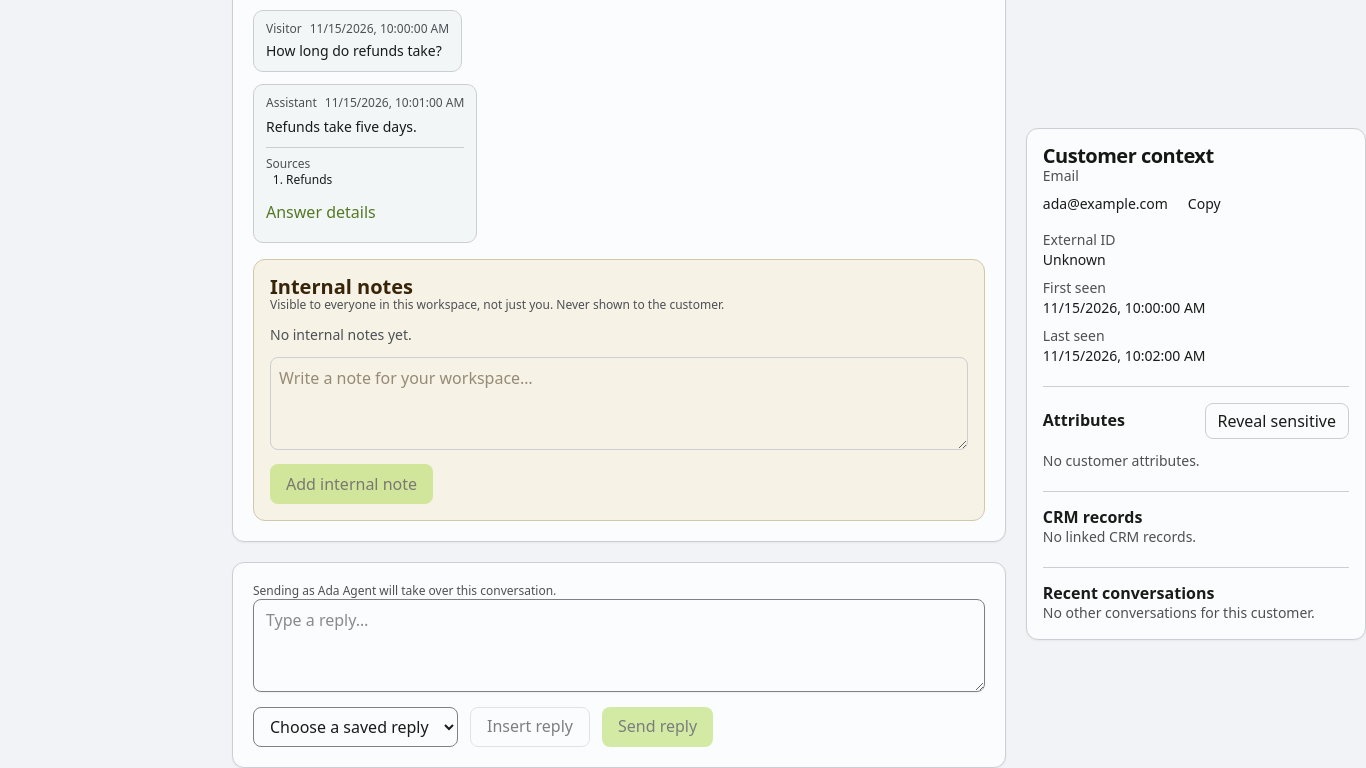
ConversationDetail › sends a reply and clears the composer
The width and height of the screenshot is (1366, 768).
(page scrolled)
Type "Hello!" into the text box named "Reply to the visitor" at (619, 646), box [253,600,985,692]
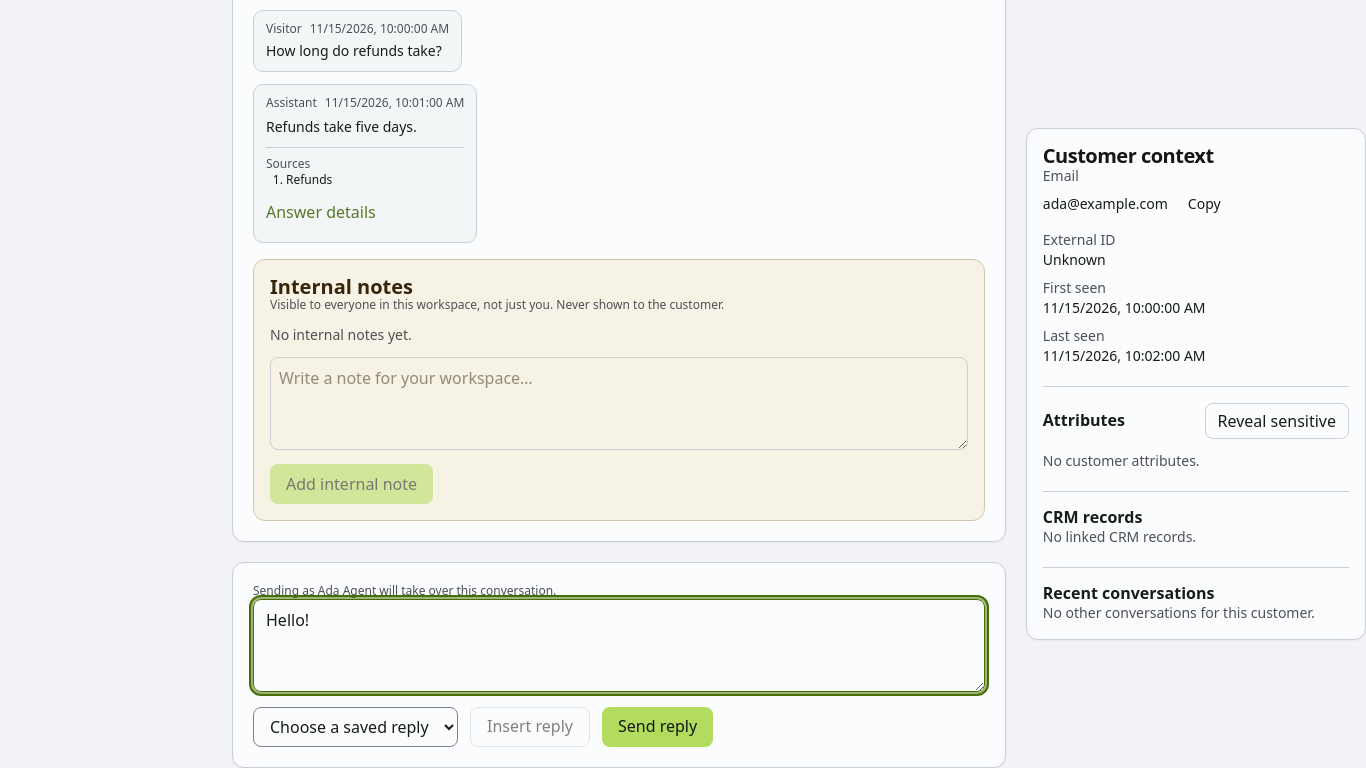
Click the button "Send reply" at (658, 727), box [602,707,713,747]
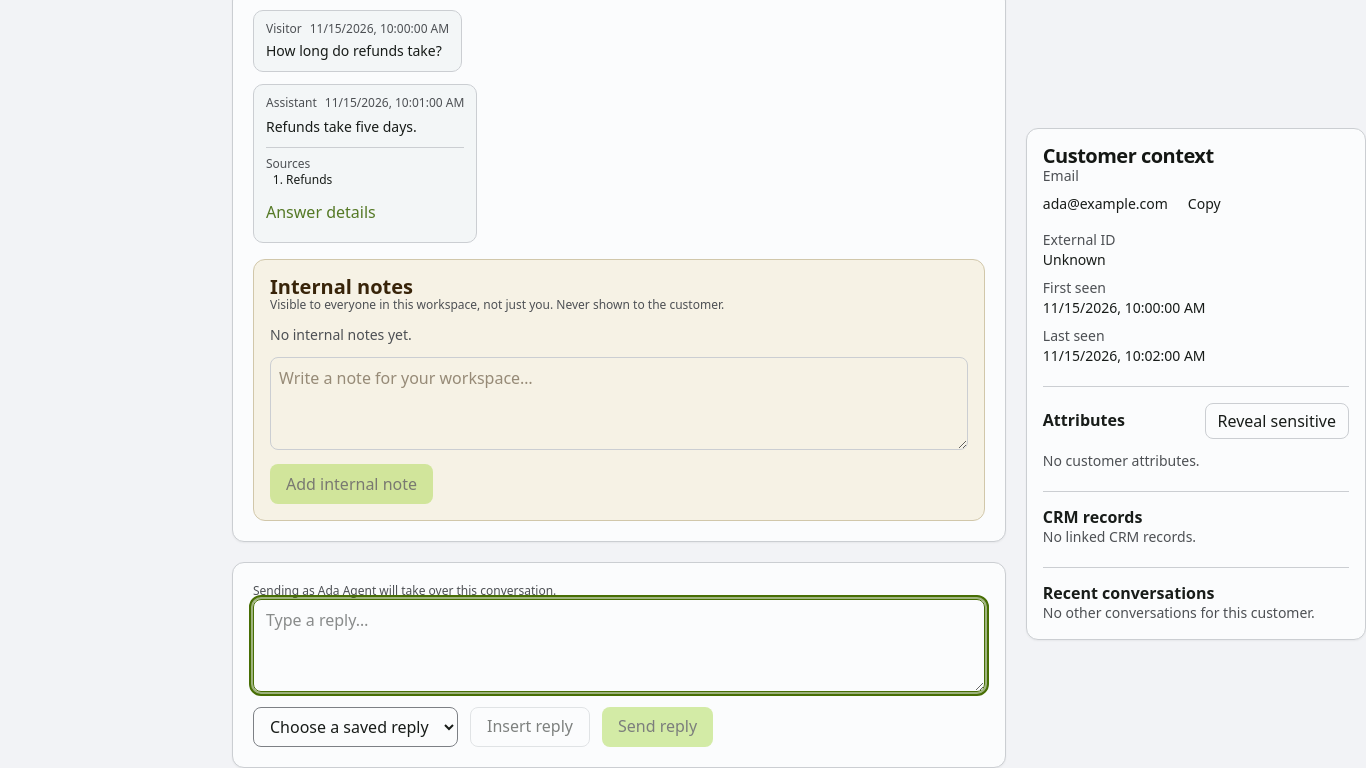
Expected: the text box named "Reply to the visitor" is empty, [253,600,985,692]
